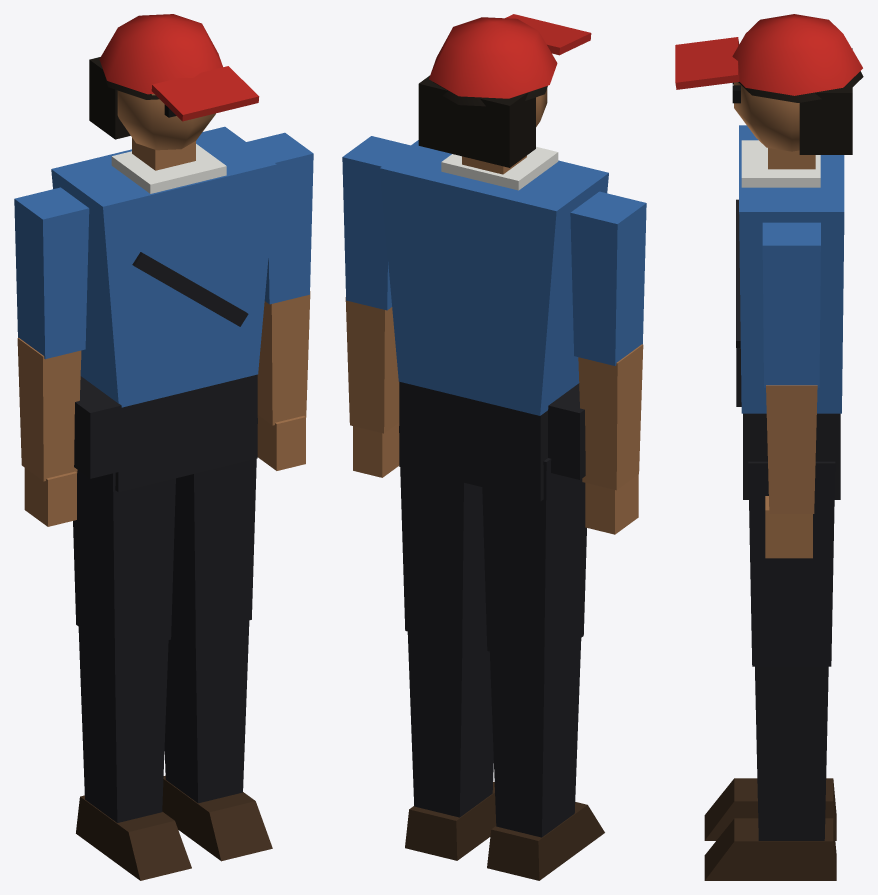
The model's file is npc_sopir.glb.
The picture shows the model from 3 angles, left to right: view 1: azimuth 30°, elevation 25°; view 2: azimuth 150°, elevation 25°; view 3: azimuth 270°, elevation 25°; orthographic projection.
Visible parts, largest first — view 1: torso, leg_r, leg_l, arm_r, head, arm_l; view 2: torso, leg_r, leg_l, arm_r, head, arm_l; view 3: leg_l, torso, arm_l, head, leg_r.
Boxes of the visible parts, box(x1,y1,x2,y2) form: torso: box(51, 126, 276, 492); leg_r: box(73, 470, 191, 880); leg_l: box(162, 418, 272, 861); arm_r: box(14, 187, 89, 526); head: box(89, 14, 259, 150); arm_l: box(246, 132, 313, 470); torso: box(380, 140, 608, 501); leg_r: box(482, 458, 604, 880); leg_l: box(399, 426, 496, 860); arm_r: box(570, 191, 646, 534); head: box(418, 14, 591, 167); arm_l: box(342, 136, 410, 477); leg_l: box(704, 461, 836, 880); torso: box(736, 125, 844, 499); arm_l: box(762, 222, 820, 558); head: box(675, 14, 863, 154); leg_r: box(704, 778, 836, 840).
Size of the model in its own units: 0.6035 by 1.73 by 0.3565.
